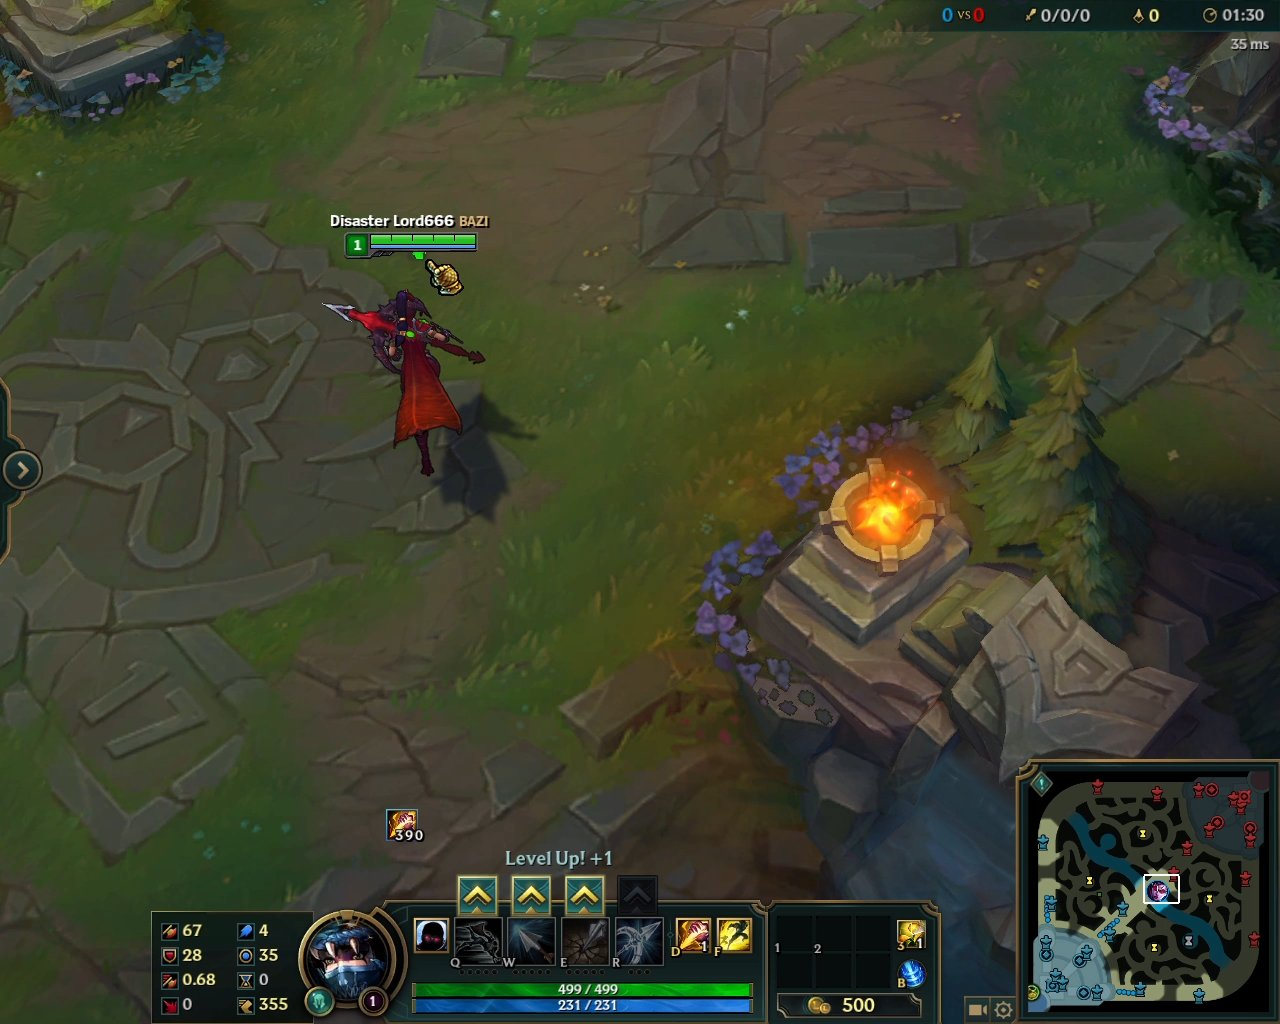Vayne: (315, 288, 490, 488)
